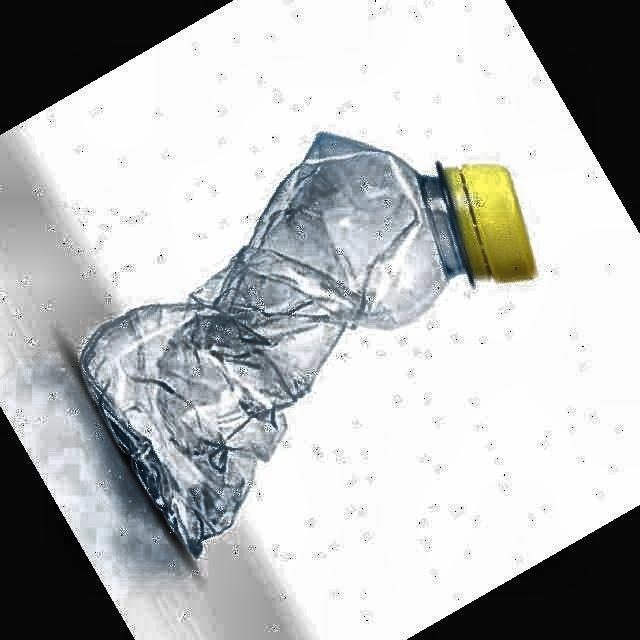plastic: (80, 133, 535, 555)
